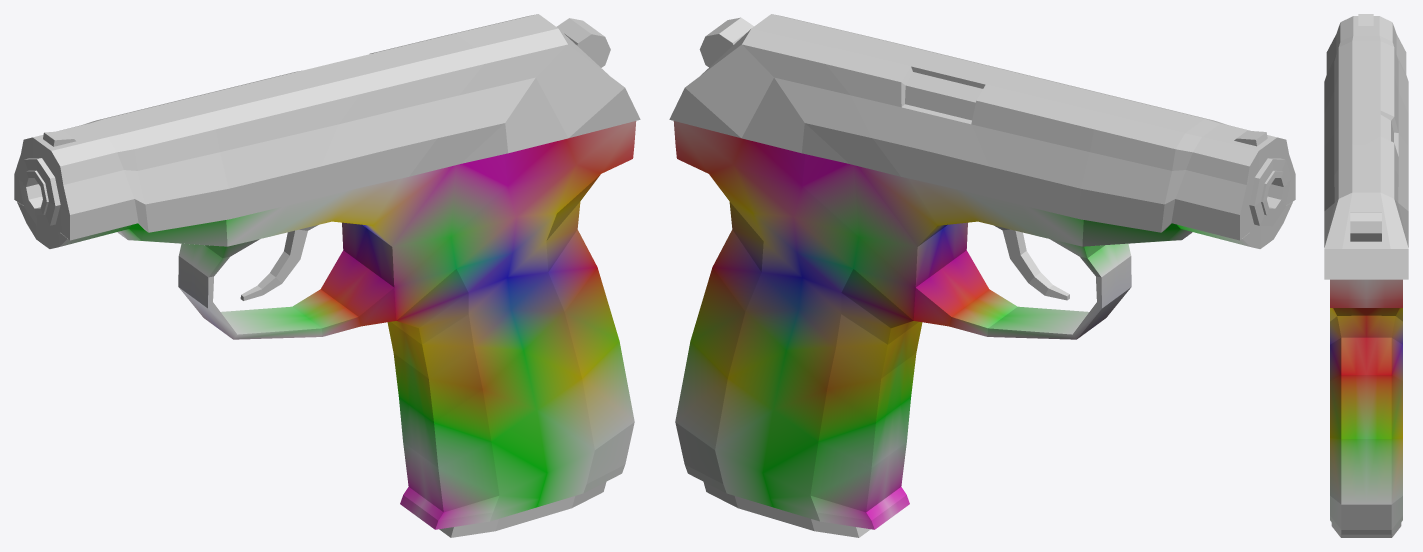
File: makarov.fbx
The picture shows the model from 3 angles, left to right: view 1: azimuth 30°, elevation 25°; view 2: azimuth 150°, elevation 25°; view 3: azimuth 270°, elevation 25°; orthographic projection. The views are drawn at different scales.
Visible parts, largest first — view 1: main body, main body upper slide, details, mag; view 2: main body, main body upper slide, details, mag; view 3: main body upper slide, main body, details, mag.
Boxes of the visible parts, left/top/right/bottom form: main body: left=17, top=121, right=636, bottom=529; main body upper slide: left=14, top=14, right=640, bottom=240; details: left=18, top=18, right=610, bottom=300; mag: left=439, top=481, right=606, bottom=537; main body: left=673, top=121, right=1292, bottom=529; main body upper slide: left=669, top=14, right=1295, bottom=240; details: left=699, top=17, right=1291, bottom=300; mag: left=703, top=481, right=870, bottom=537; main body upper slide: left=1324, top=16, right=1408, bottom=279; main body: left=1330, top=279, right=1402, bottom=534; details: left=1350, top=14, right=1381, bottom=241; mag: left=1331, top=523, right=1401, bottom=537.
Size of the model in its own units: 416 by 329 by 73.42.
